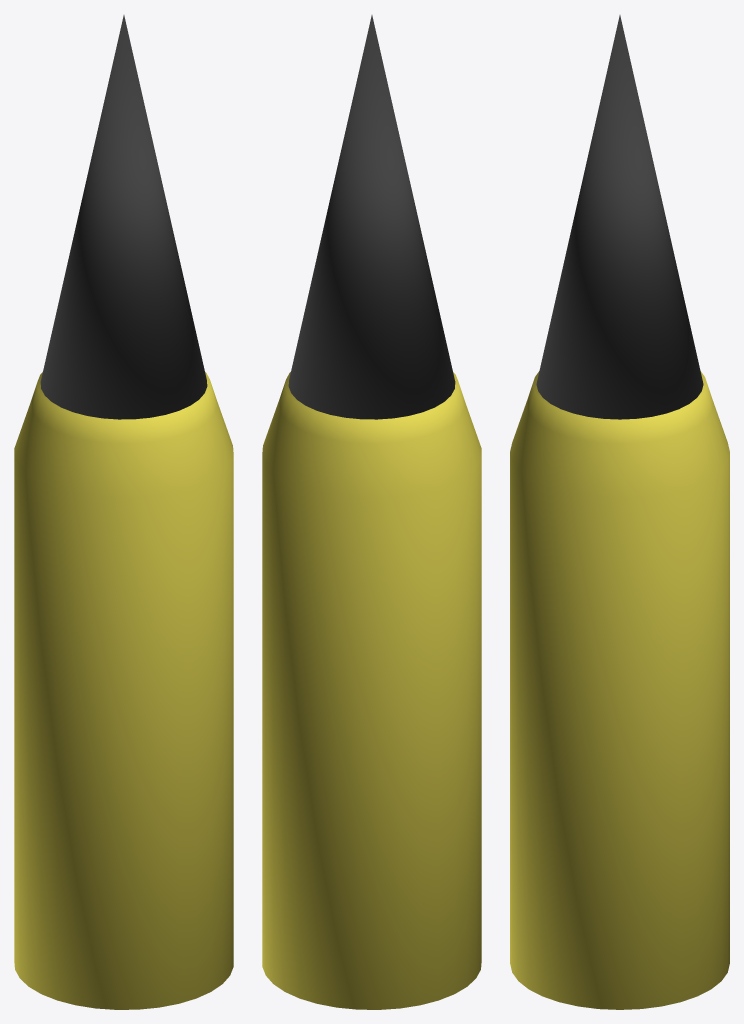
File: Bullet.fbx
3 renders of one model, left to right at view 1: azimuth 30°, elevation 25°; view 2: azimuth 150°, elevation 25°; view 3: azimuth 270°, elevation 25°, orthographic.
Visible parts, largest first — view 1: Cylinder, Cone; view 2: Cylinder, Cone; view 3: Cylinder, Cone.
Boxes of the visible parts, x1,y1,x2,y2 form: Cylinder: (14,372,233,1009); Cone: (40,15,207,419); Cylinder: (262,372,481,1009); Cone: (288,15,455,419); Cylinder: (510,371,729,1009); Cone: (536,15,703,419).
Bounding box in the file's own units: 45.37 × 216 × 45.37.
